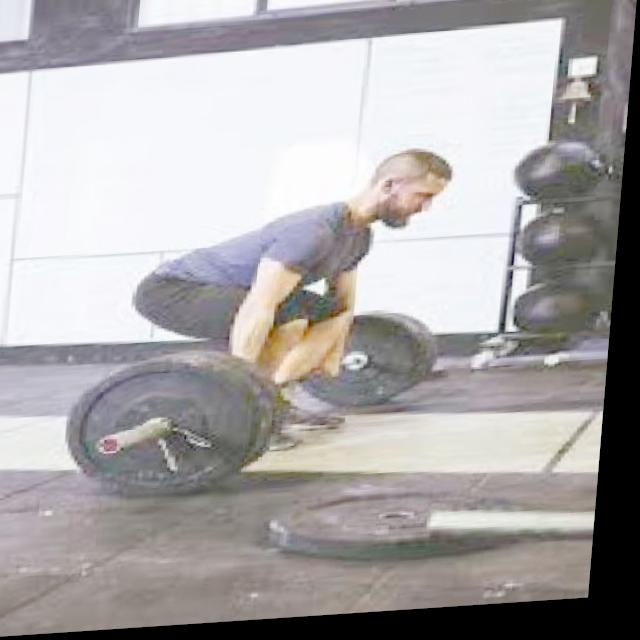barbell: (70, 353, 276, 462)
